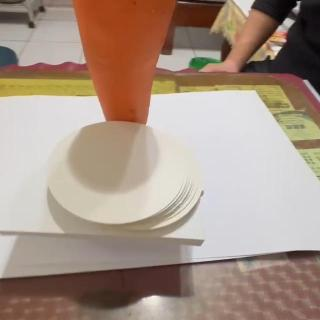carrot: (68, 0, 180, 124)
